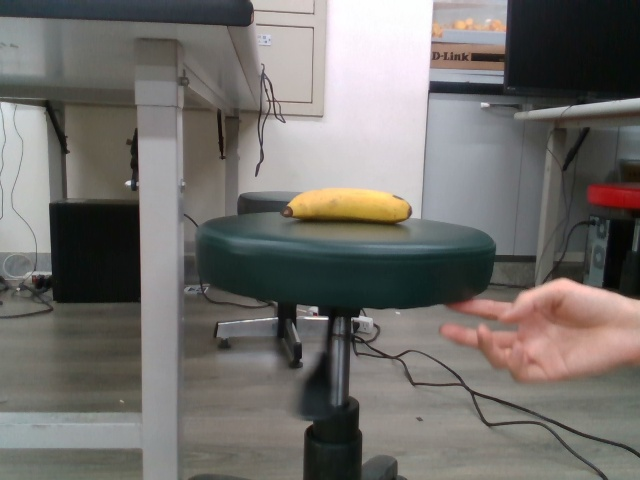banana: (279, 184, 417, 227)
